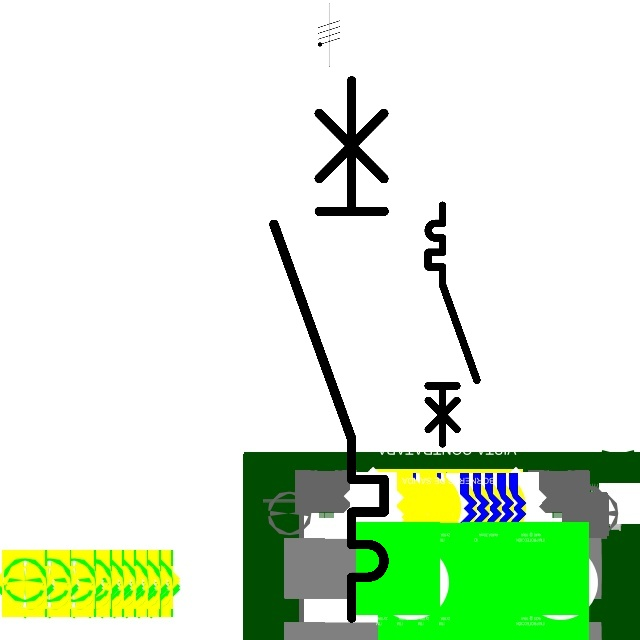interruptor_termomagnetico: (260, 66, 398, 631), (422, 199, 483, 450)
